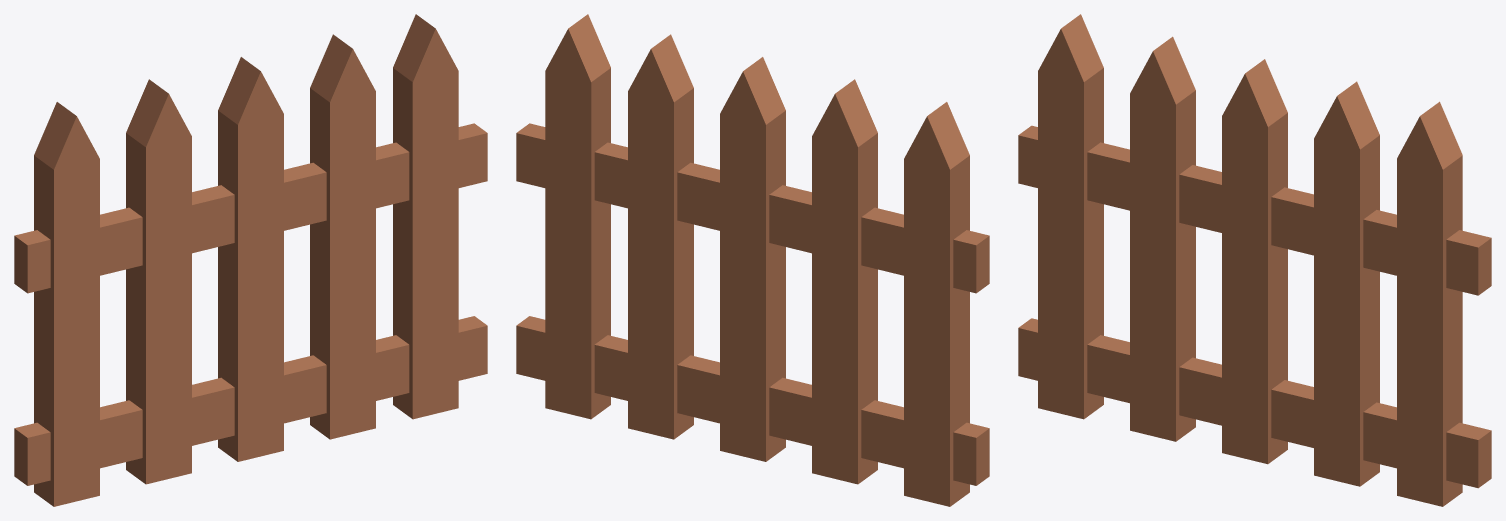
The model's file is Fence.gltf.
3 renders of one model, left to right at view 1: azimuth 30°, elevation 25°; view 2: azimuth 150°, elevation 25°; view 3: azimuth 330°, elevation 25°, orthographic.
Visible parts, largest first — view 1: Cube; view 2: Cube; view 3: Cube.
Boxes of the visible parts, <box> form: Cube: <box>14,14,487,506</box>; Cube: <box>516,14,989,506</box>; Cube: <box>1018,14,1491,506</box>.
Bounding box in the file's own units: 1 × 0.8 × 0.075.
Materials: 1 (1 with a texture image).
